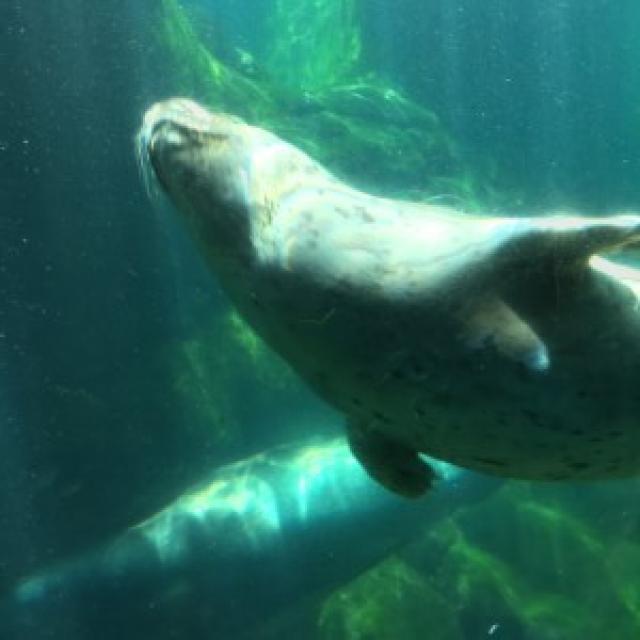Seal: (130, 88, 640, 496)
